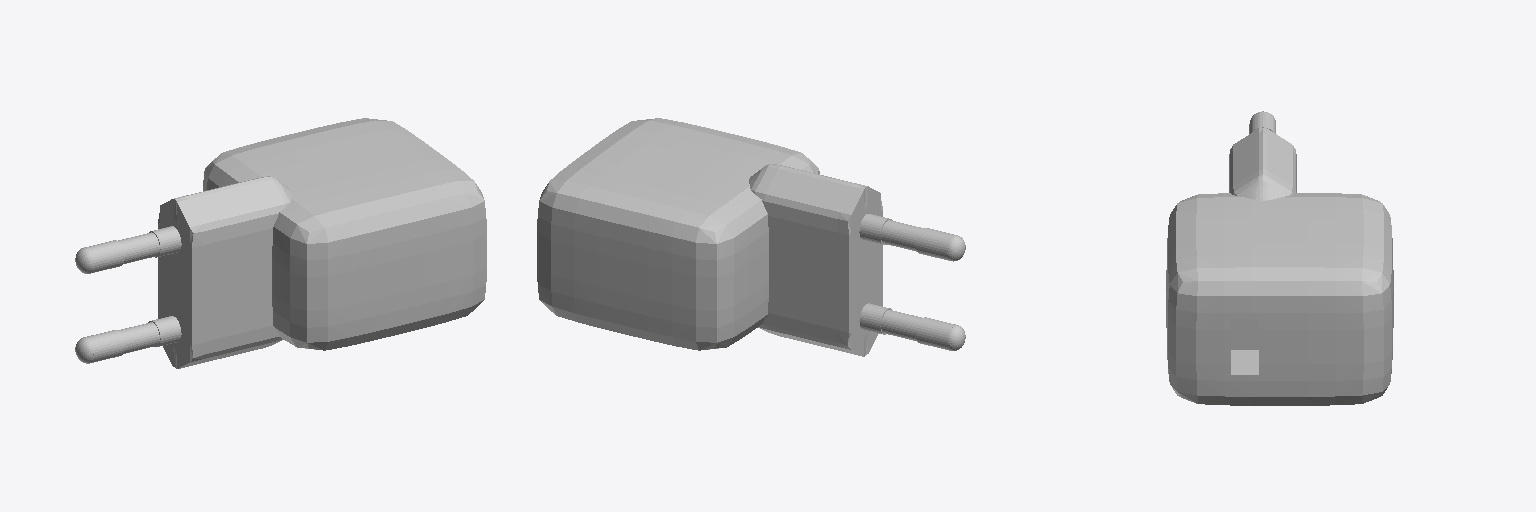
3 views of the same model, side by side, from view 1: azimuth 30°, elevation 25°; view 2: azimuth 150°, elevation 25°; view 3: azimuth 270°, elevation 25° (orthographic).
Parts seen in each view (by area): view 1: Bonche_0, Adapter_0, Nose_0, SilverNose_0; view 2: Bonche_0, Adapter_0, Nose_0, SilverNose_0; view 3: Bonche_0, Adapter_0.
Boxes of the visible parts, x1,y1,x2,y2 form: Bonche_0: [203, 118, 486, 350]; Adapter_0: [158, 176, 291, 368]; Nose_0: [118, 226, 181, 353]; SilverNose_0: [75, 240, 124, 363]; Bonche_0: [537, 118, 819, 350]; Adapter_0: [749, 164, 882, 356]; Nose_0: [859, 214, 922, 341]; SilverNose_0: [916, 228, 965, 350]; Bonche_0: [1166, 193, 1393, 405]; Adapter_0: [1229, 128, 1296, 200].
Bounding box in the file's own units: 0.1903 × 0.0828 × 0.1.